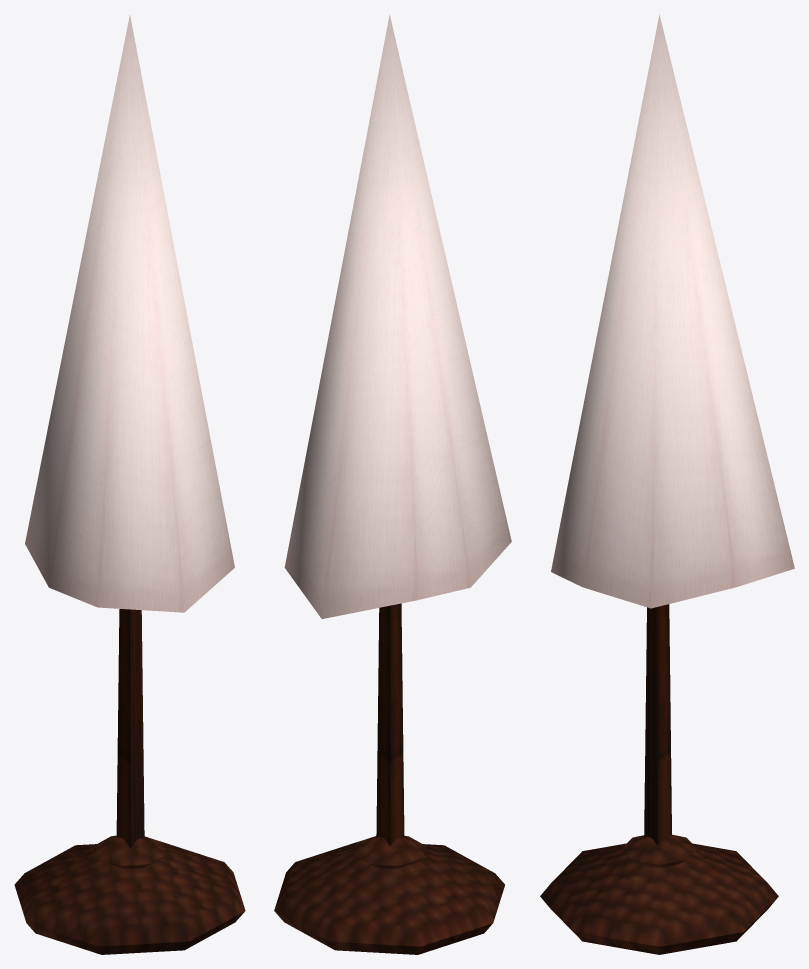
The model's file is Rattan_BeachUnmbrella_01_Folded.fbx.
The picture shows the model from 3 angles, left to right: view 1: azimuth 30°, elevation 25°; view 2: azimuth 150°, elevation 25°; view 3: azimuth 270°, elevation 25°; orthographic projection.
Parts seen in each view (by area): view 1: Rattan_BeachUnmbrella_01_Folded; view 2: Rattan_BeachUnmbrella_01_Folded; view 3: Rattan_BeachUnmbrella_01_Folded.
Part boxes in pixels (left/top/right/bottom): Rattan_BeachUnmbrella_01_Folded: left=14, top=15, right=245, bottom=954; Rattan_BeachUnmbrella_01_Folded: left=274, top=15, right=511, bottom=954; Rattan_BeachUnmbrella_01_Folded: left=540, top=14, right=794, bottom=954.
Bounding box in the file's own units: 0.2369 × 0.9791 × 0.2528.
